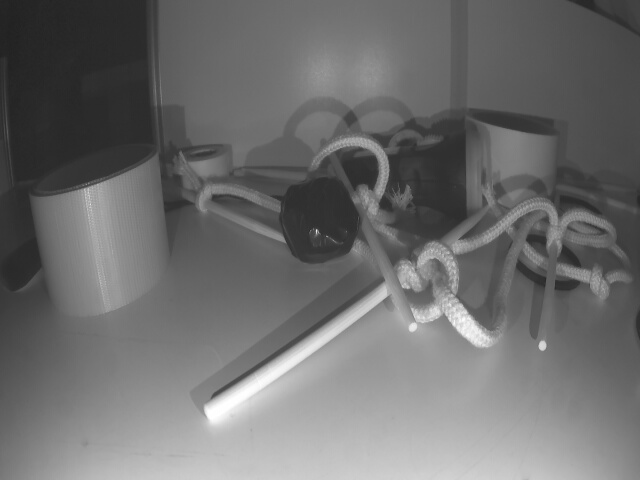Dead: (279, 176, 360, 263)
